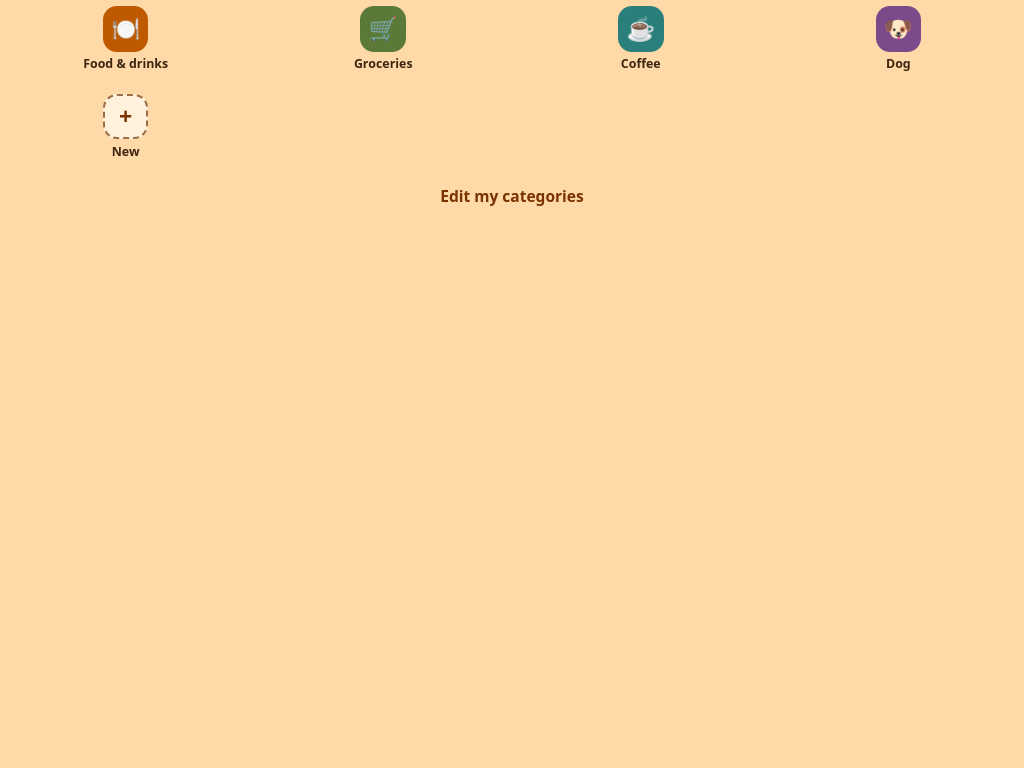
Test case: PersonalCategoryGrid › the new-category sheet › keeps the title and Save in view on a short window, scrolling only the fields
The image size is (1024, 768).
Click the button "+ New": (126, 126) [0, 88, 251, 165]
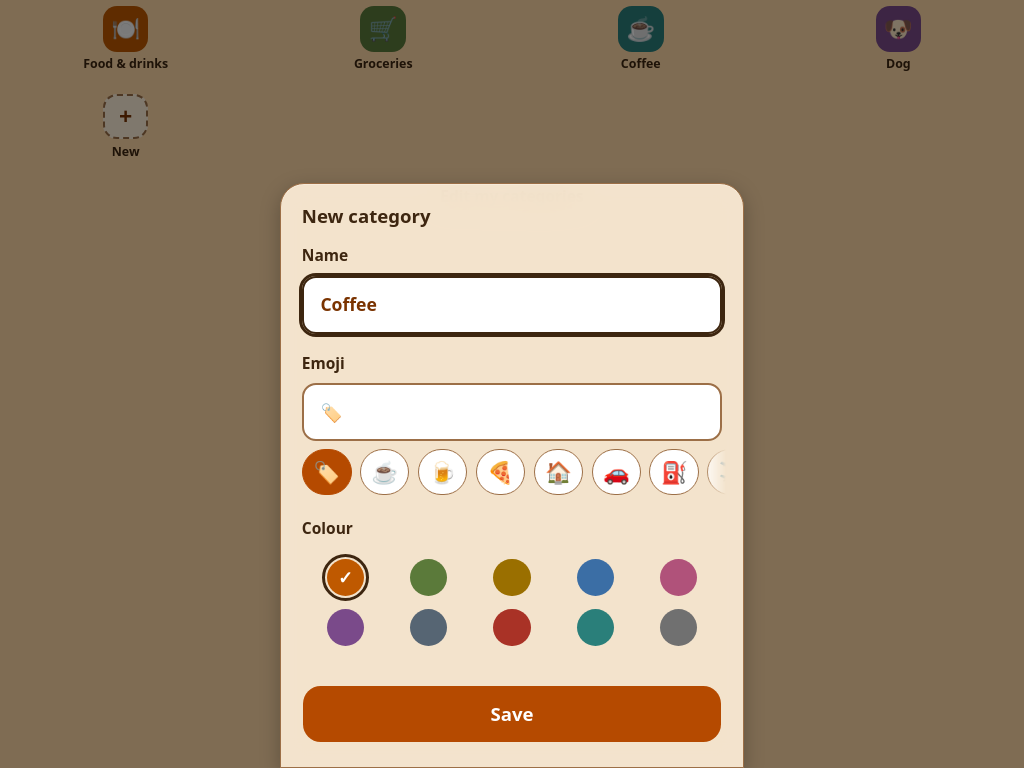
Check: the text "New category" is not shown
Check: the dialog "New category" is shown, box [302, 203, 431, 228]
